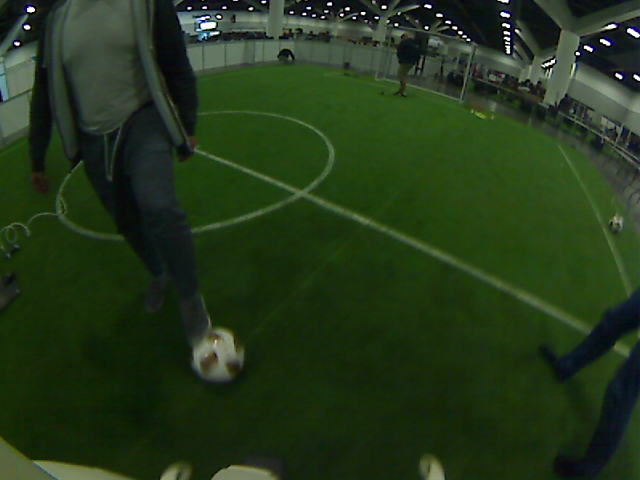ball: (198, 336, 238, 376), (607, 213, 625, 233)
goalpost: (372, 47, 384, 81), (457, 69, 465, 103)
